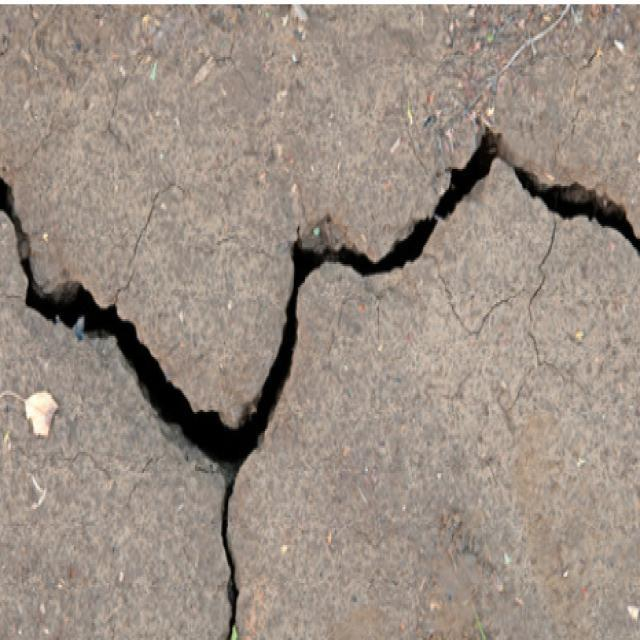branched cracks: (0, 126, 639, 639)
